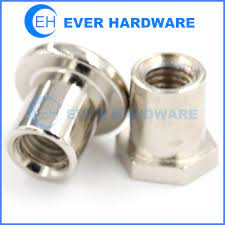Thread: (132, 55, 205, 99), (9, 130, 75, 178)
